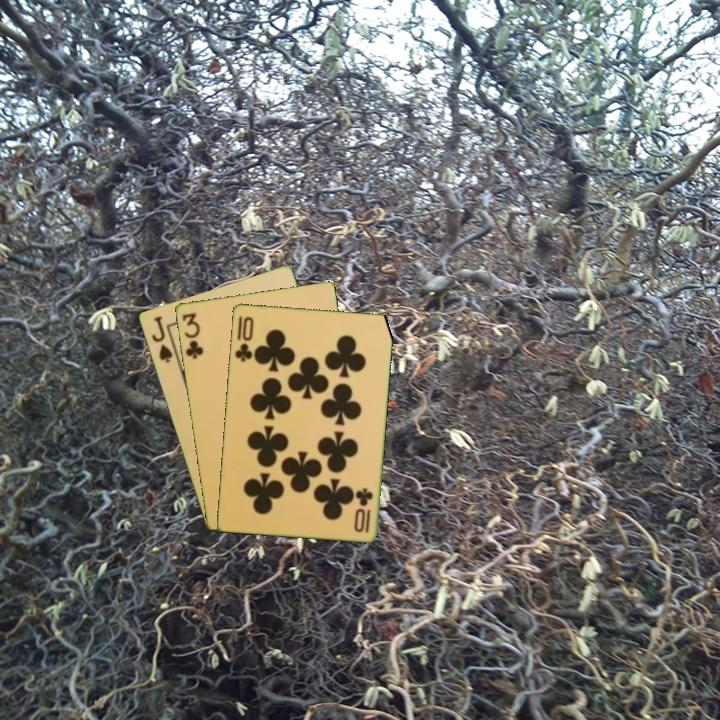10c: (231, 313, 256, 364), (353, 484, 376, 535)
3c: (178, 309, 206, 362)
Js: (148, 312, 175, 366)
